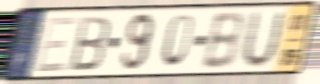0: (158, 13, 195, 71)
9: (120, 11, 156, 75)
B: (199, 10, 245, 71), (68, 15, 112, 74)
E: (32, 14, 80, 75)
U: (238, 8, 287, 71)
